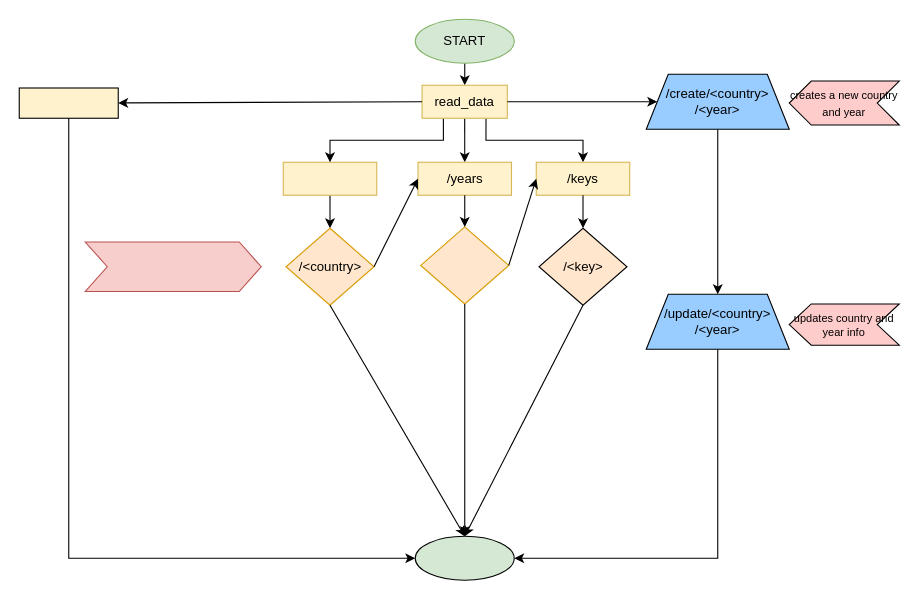
Some shapes in this 919 by 600 pixel diagram are drawn without their labels. The shapes that lost their labels are listed below. From the top down, each one's box as (x1, y1, x2, y2) in pixels, then its label:
(18, 87, 118, 118): /help
(282, 161, 377, 195): /countries
(84, 241, 261, 292): this outputs the data for each country and its given year and key
(420, 226, 509, 304): /<year>
(414, 535, 514, 580): END
